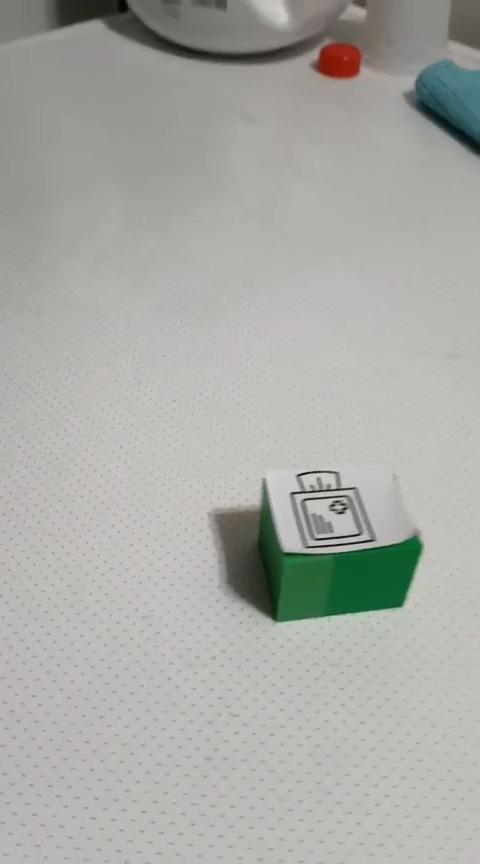Gauze: (256, 461, 424, 622)
